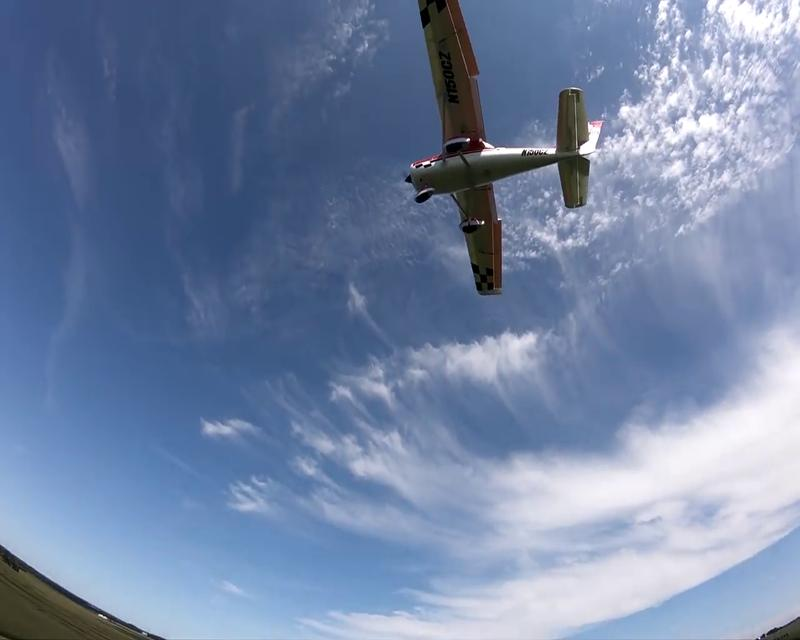UAV: (402, 0, 605, 293)
